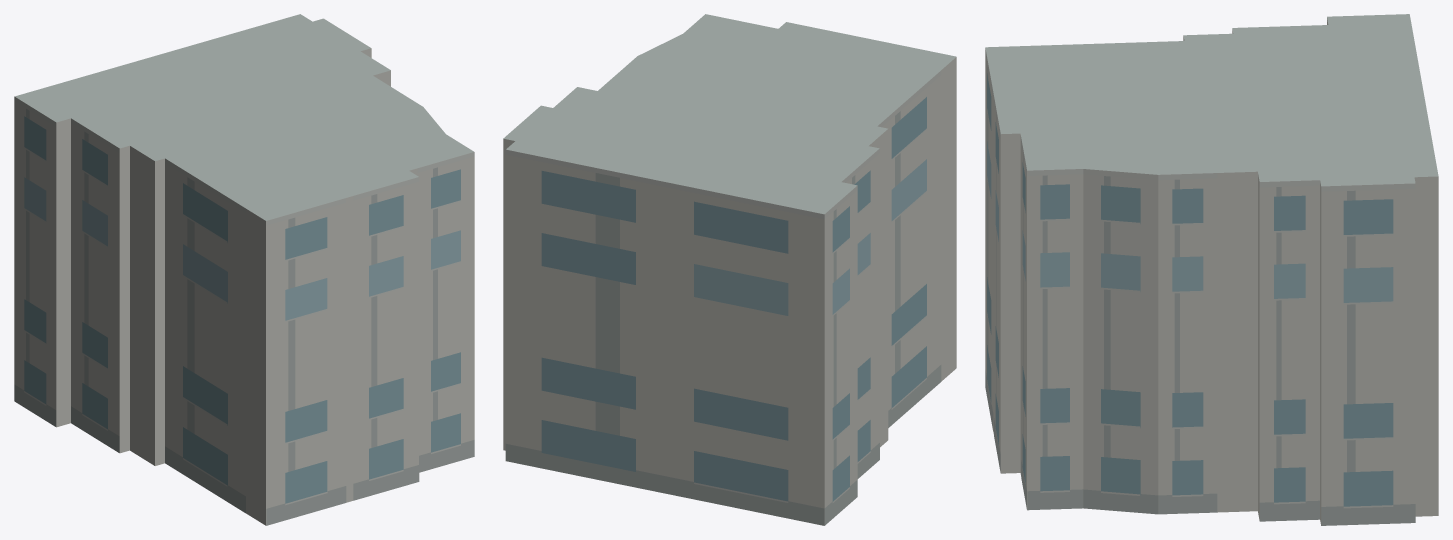
File: survey-upis-32957491.glb
The picture shows the model from 3 angles, left to right: view 1: azimuth 30°, elevation 25°; view 2: azimuth 150°, elevation 25°; view 3: azimuth 270°, elevation 25°; orthographic projection. The views are drawn at different scales.
Visible parts, largest first — view 1: survey-upis-32957491.tmp; view 2: survey-upis-32957491.tmp; view 3: survey-upis-32957491.tmp.
Part boxes in pixels (x1=…): survey-upis-32957491.tmp: x1=14, y1=14, x2=474, y2=525; survey-upis-32957491.tmp: x1=503, y1=14, x2=956, y2=525; survey-upis-32957491.tmp: x1=985, y1=14, x2=1438, y2=525.
Bounding box in the file's own units: 16.56 × 15.2 × 18.41.
